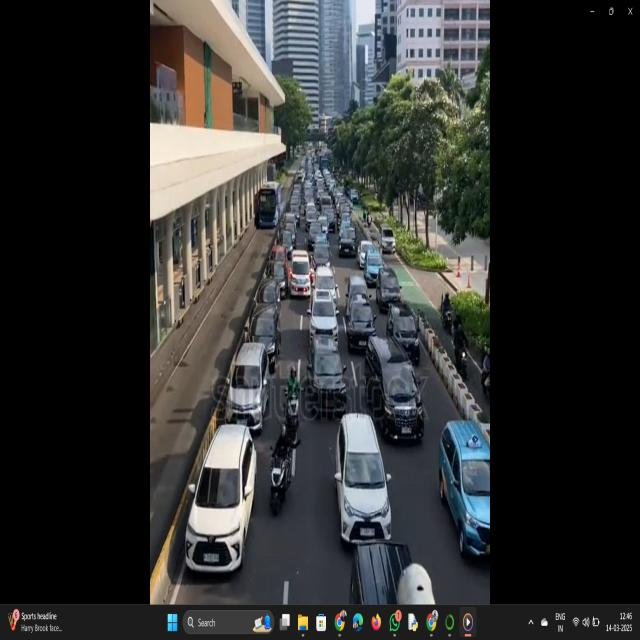Ambulance: (286, 243, 315, 306)
